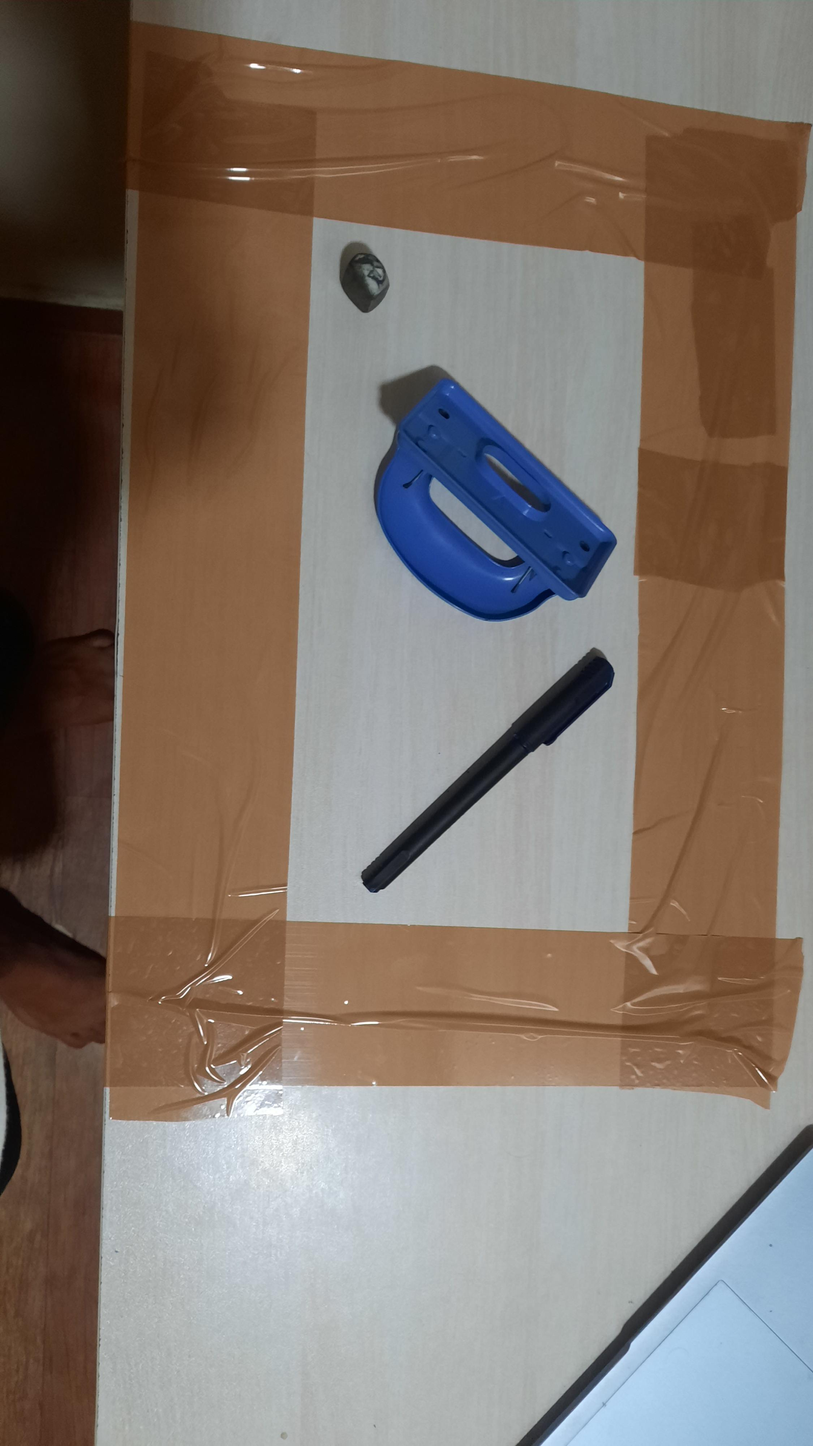Eraser: (340, 250, 391, 313)
Pen: (360, 648, 615, 893)
Punch: (373, 375, 618, 623)
